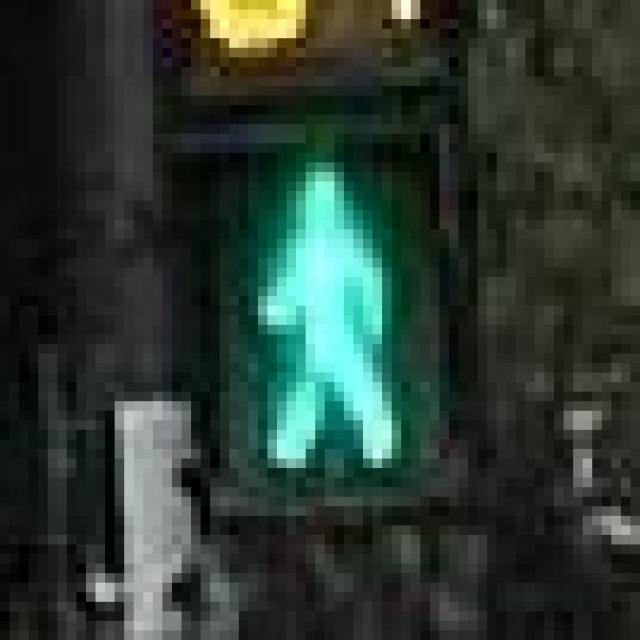geen-crossing: (162, 96, 449, 526)
